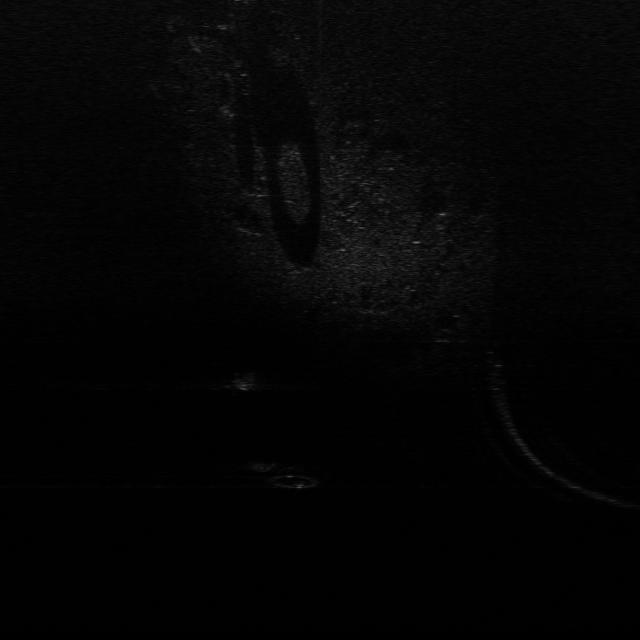cube: (239, 458, 277, 474)
square cage: (222, 369, 260, 393)
tyre: (267, 464, 321, 489)
